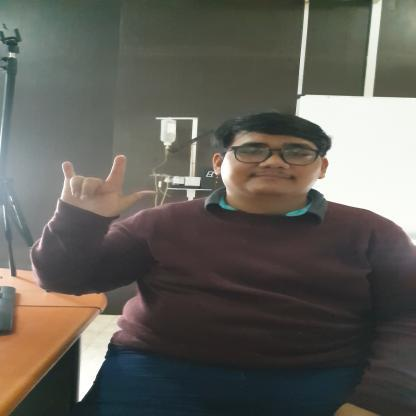ILoveYou: (51, 154, 154, 223)
